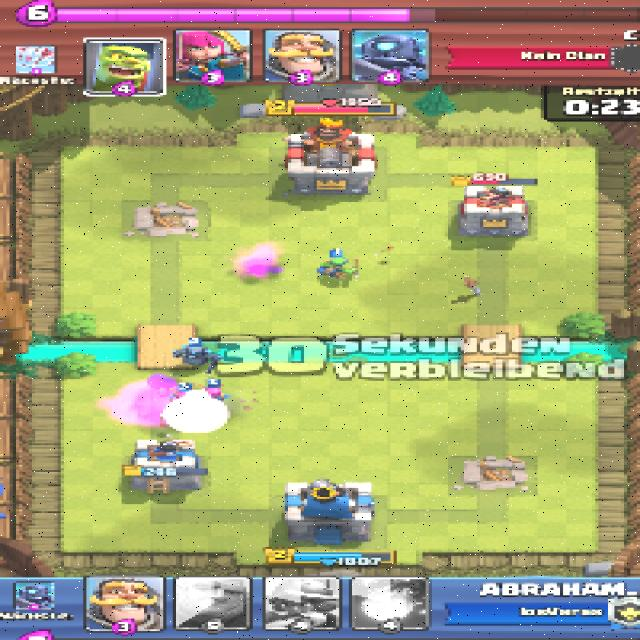Player-Archer: (172, 389, 199, 414), (196, 383, 224, 406)
Player-MiniPEKKA: (164, 344, 221, 372)
Player-SpearGoblin: (318, 257, 361, 281)
